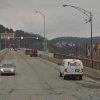Traffic light: (5, 34, 44, 41)
